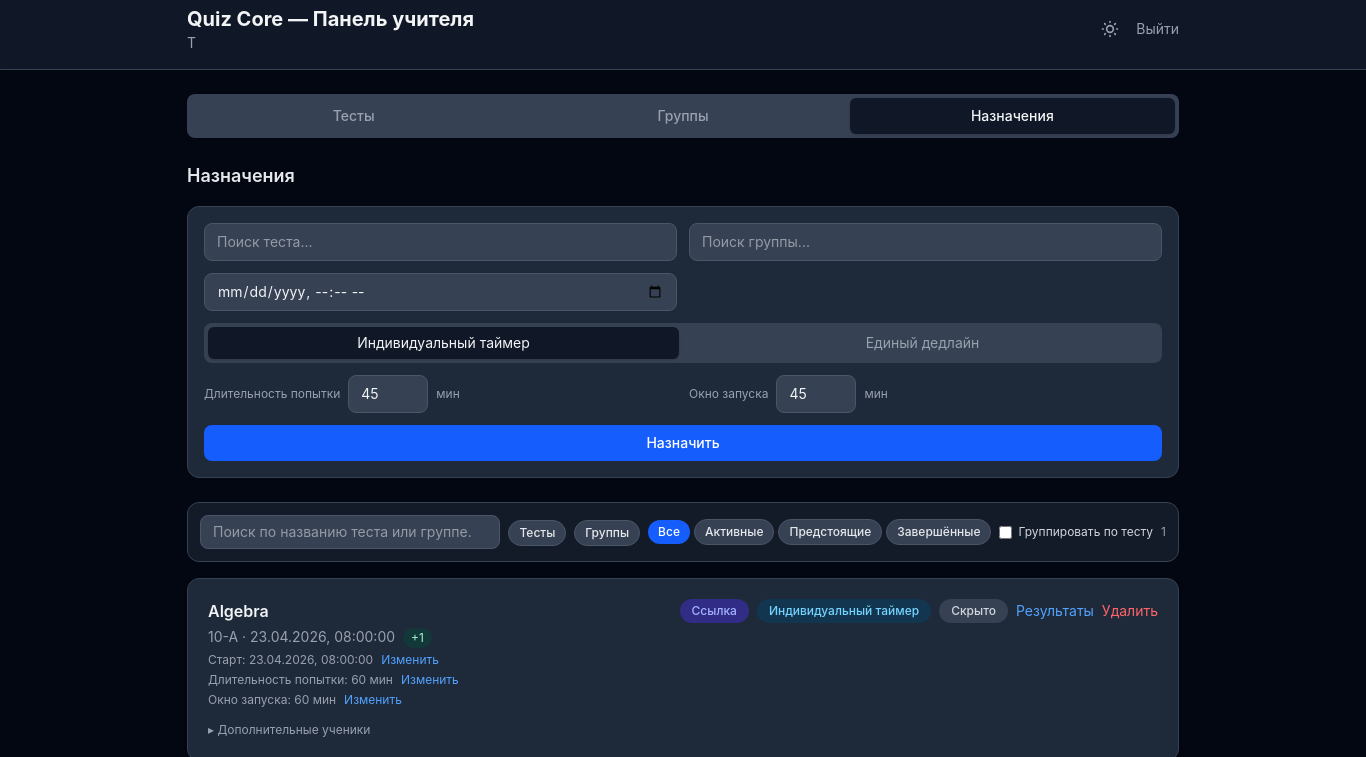
Test: TeacherDashboard AssignmentExtrasEditor › picker hides students already in the home group or already added
Click the button "▸ Дополнительные ученики" at (289,730), box [208, 722, 370, 738]
(page scrolled)
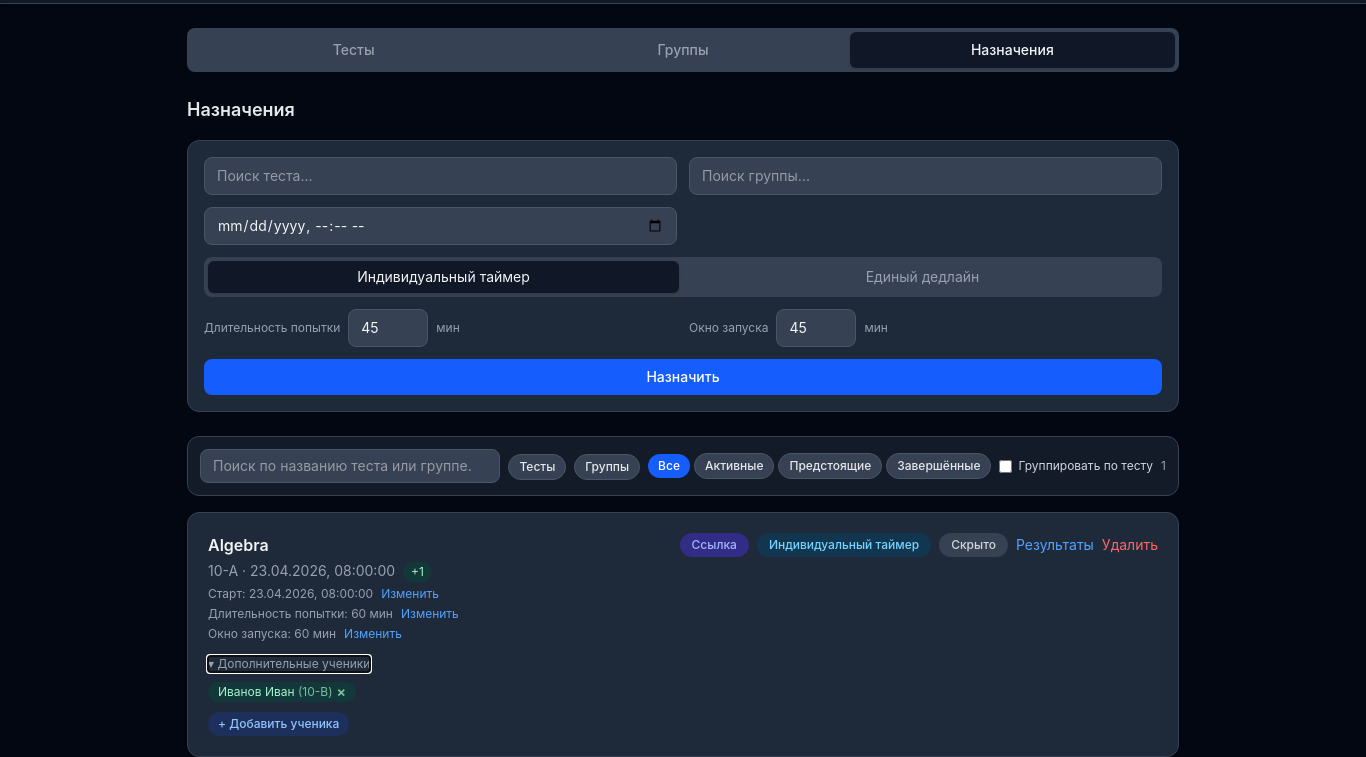
Click the button "+ Добавить ученика" at (279,724), box [208, 712, 349, 736]
(page scrolled)
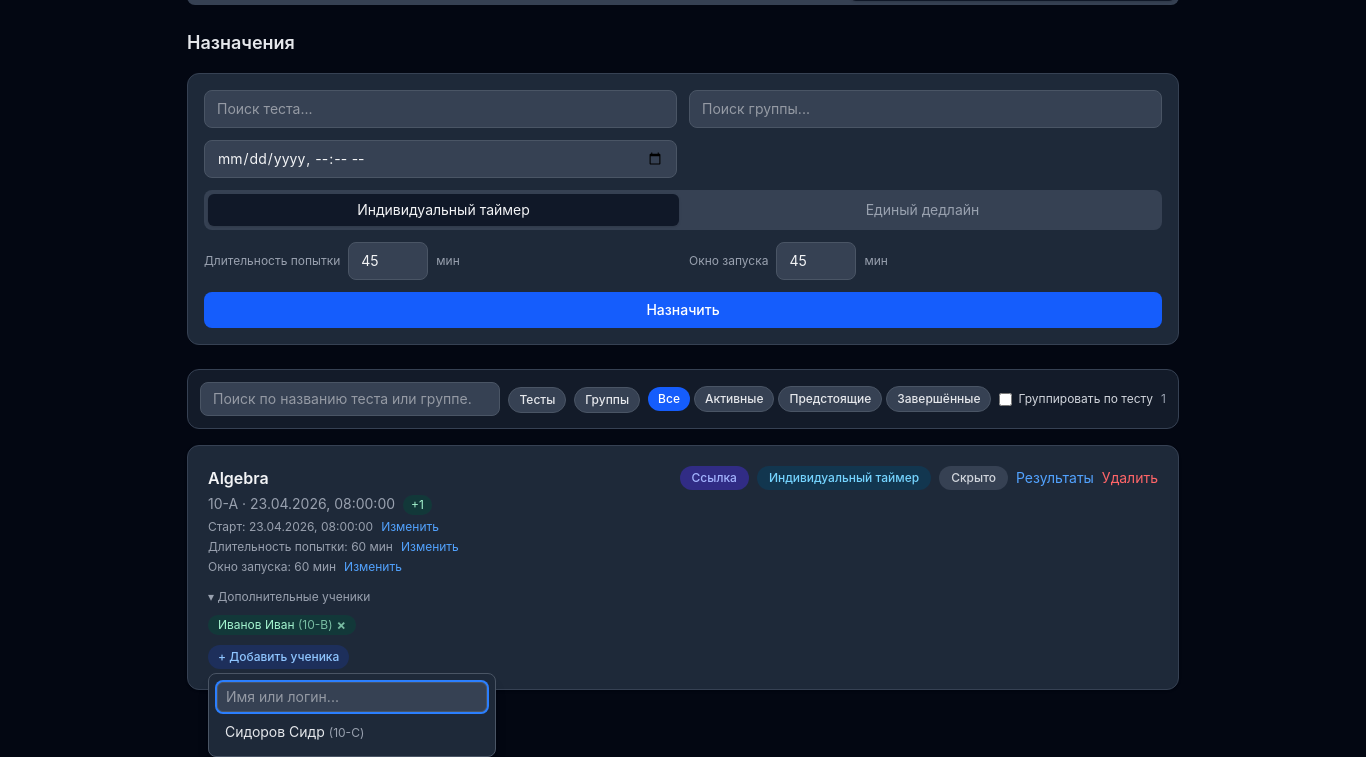
Check: the button "Сидоров Сидр(10-C)" is shown, box [217, 716, 487, 748]
